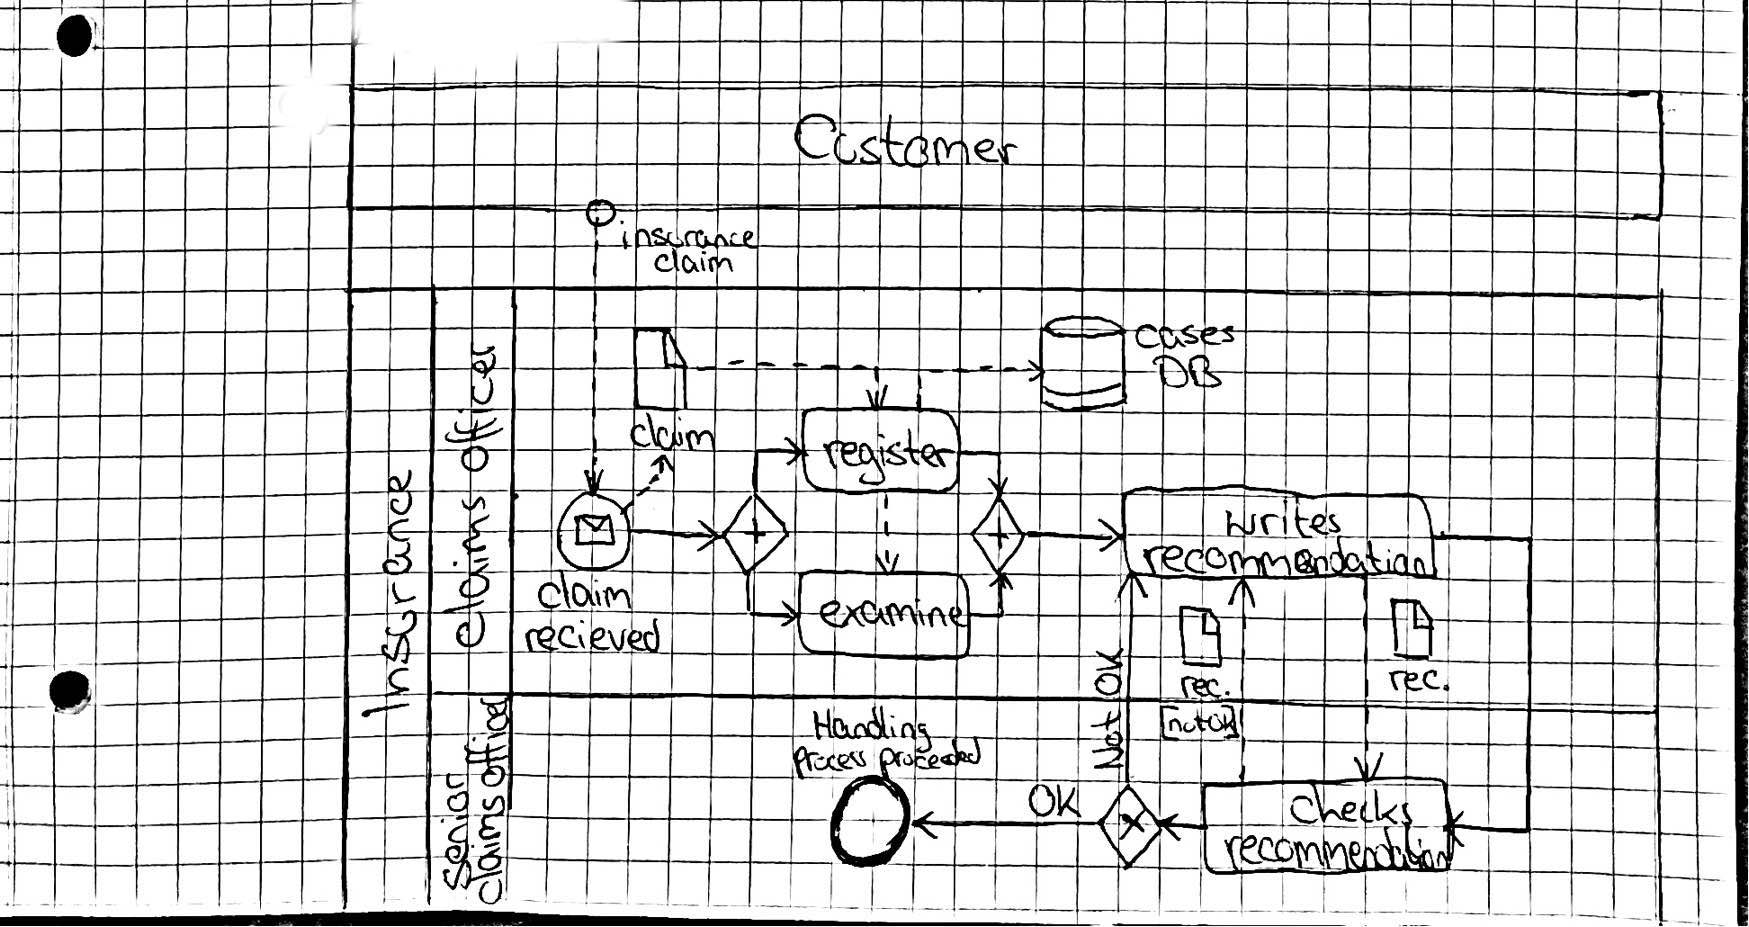Customer: (785, 105, 1026, 176)
DB: (1143, 350, 1233, 395)
Handling: (804, 700, 939, 762)
Insurance: (352, 459, 425, 727)
Not: (1083, 705, 1131, 778)
OK: (1019, 775, 1090, 826), (1085, 641, 1132, 702)
OK]: (1200, 700, 1244, 745)
Process: (785, 738, 873, 787)
[not: (1154, 701, 1211, 746)
cases: (1127, 317, 1242, 356)
checks: (1284, 775, 1419, 836)
claim: (531, 564, 641, 619), (623, 406, 725, 459), (649, 243, 740, 279)
claims: (436, 488, 500, 659), (460, 788, 514, 912)
examine: (811, 589, 971, 637)
insurance: (610, 212, 767, 256)
officer: (437, 330, 507, 481), (458, 691, 519, 793)
proceeded: (872, 731, 988, 786)
rec.: (1380, 661, 1456, 699), (1175, 668, 1237, 708)
recieved: (518, 611, 669, 661)
recommendation: (1132, 530, 1436, 583), (1218, 819, 1458, 880)
register: (814, 422, 962, 492)
senior: (435, 764, 479, 900)
writes: (1215, 496, 1352, 545)
